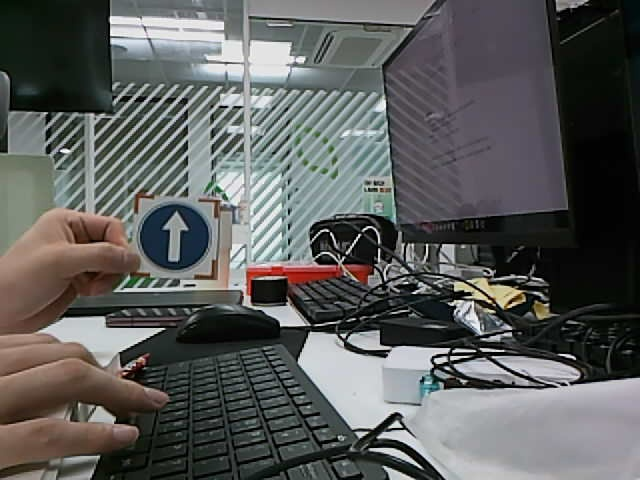go: (137, 202, 212, 272)
